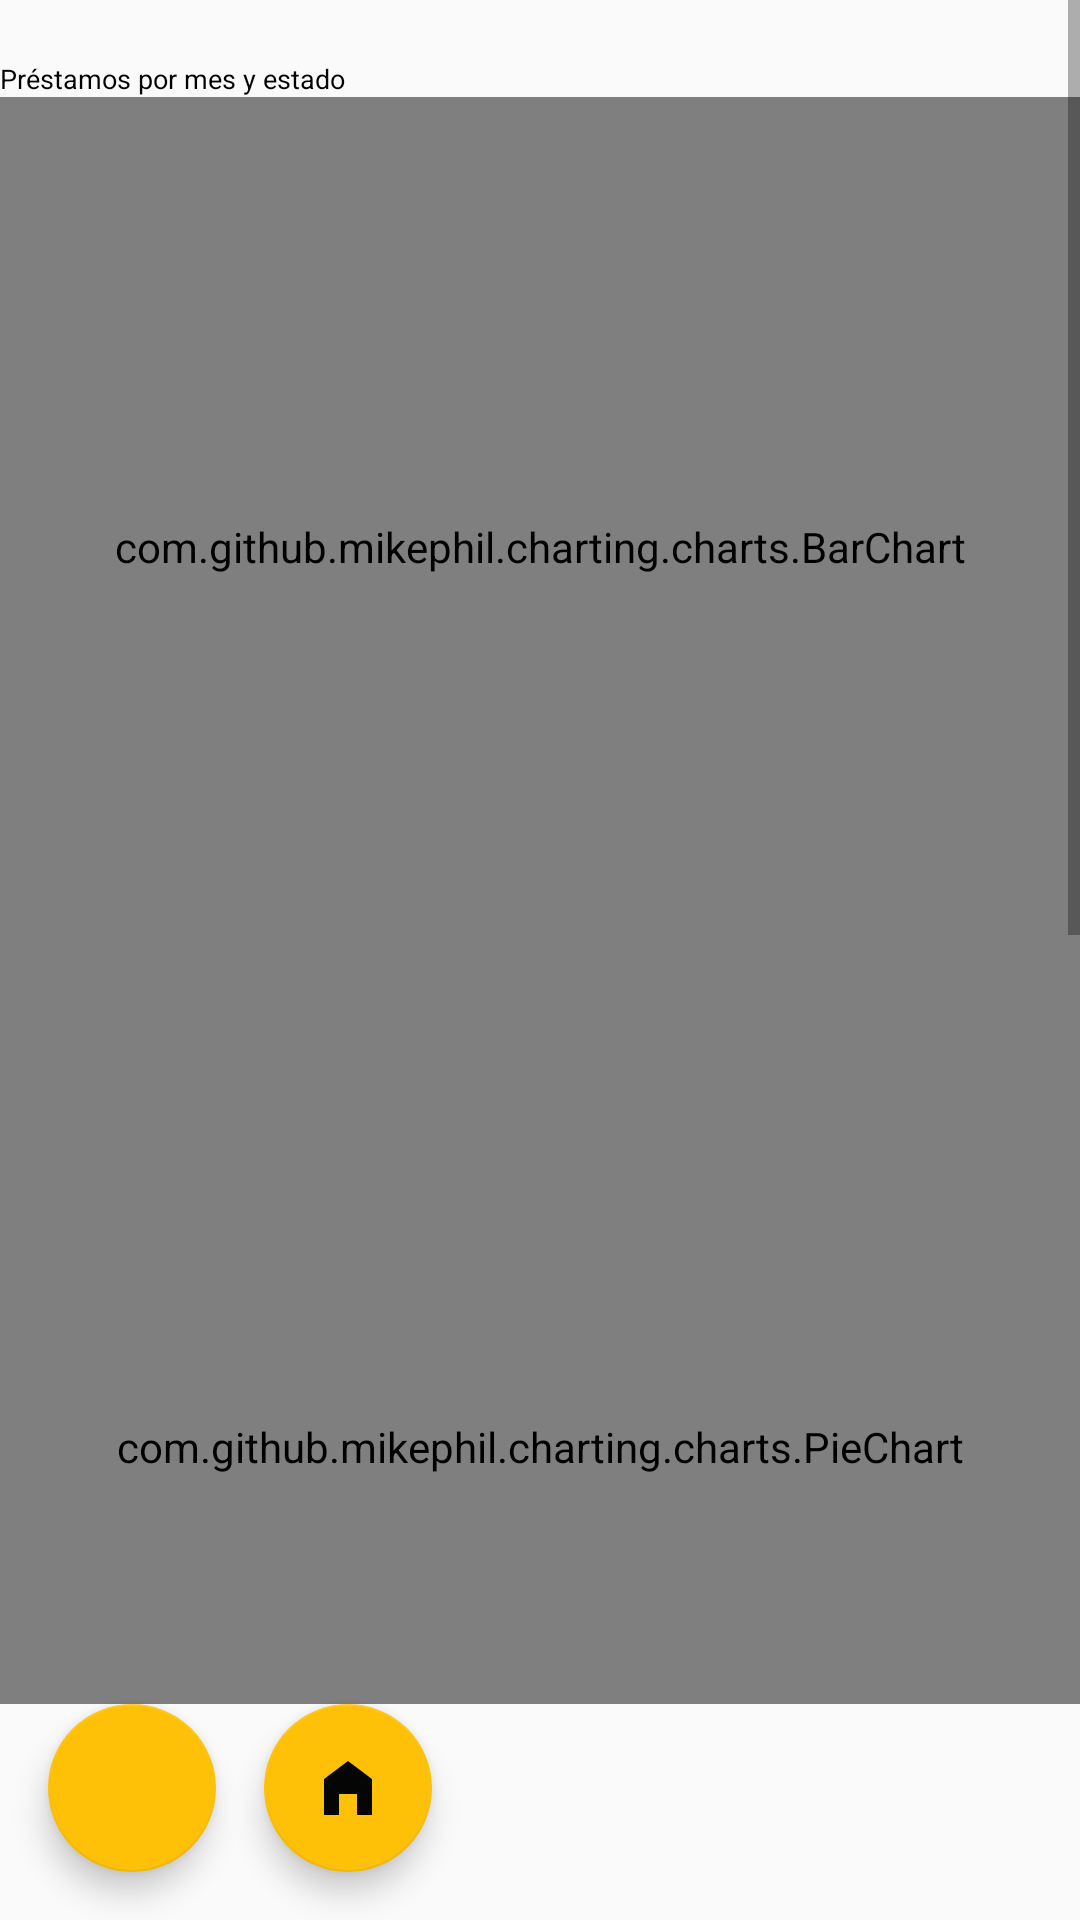

Icon click points for this 1080 × 1920 phone screenshot, format point (x, y):
home: point (348, 1788)
